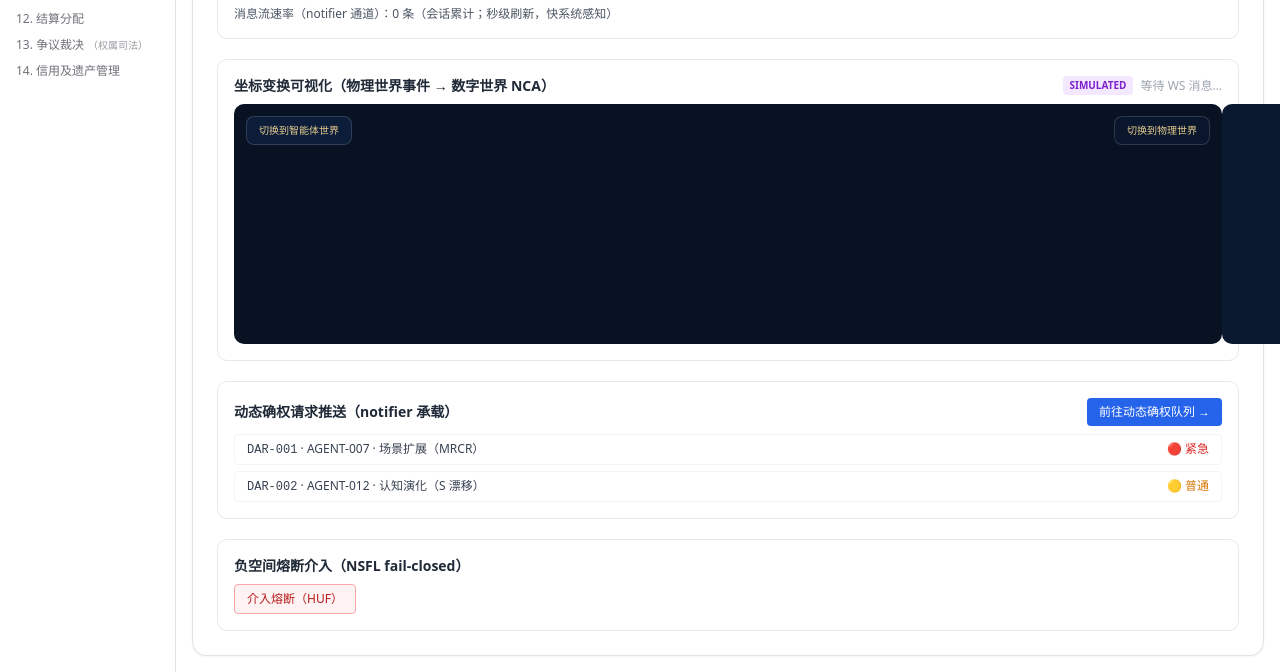
Test case: F4 通知机状态页 /notifier › 确权请求推送入口 → 跳转 /attestation/dynamic
The width and height of the screenshot is (1280, 672).
(page scrolled)
Expected: the element with test id "notifier-attest" is shown, [217,380,1239,518]
Expected: the text "DAR-001" is shown, [247,442,297,456]
Click the button with test id "notifier-go-attest". click: (1154, 412)
box: [1087,398,1222,426]
(page scrolled)
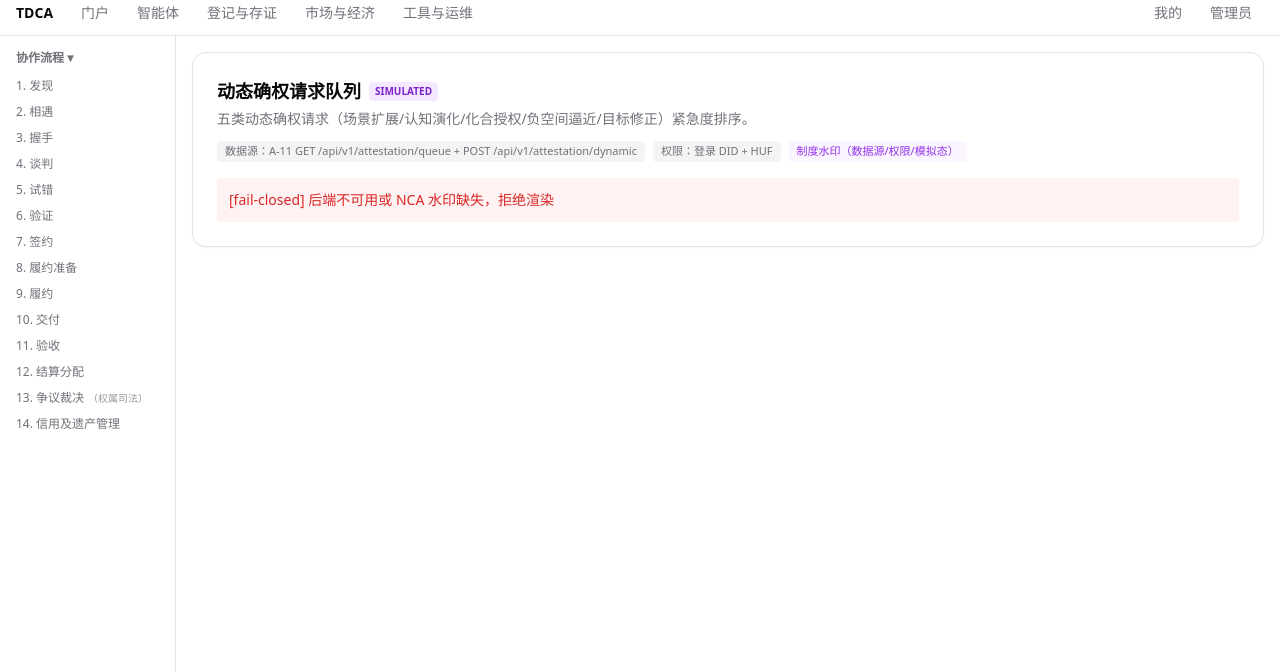
Expected: the heading "动态确权请求队列" is shown, [217,77,361,105]
